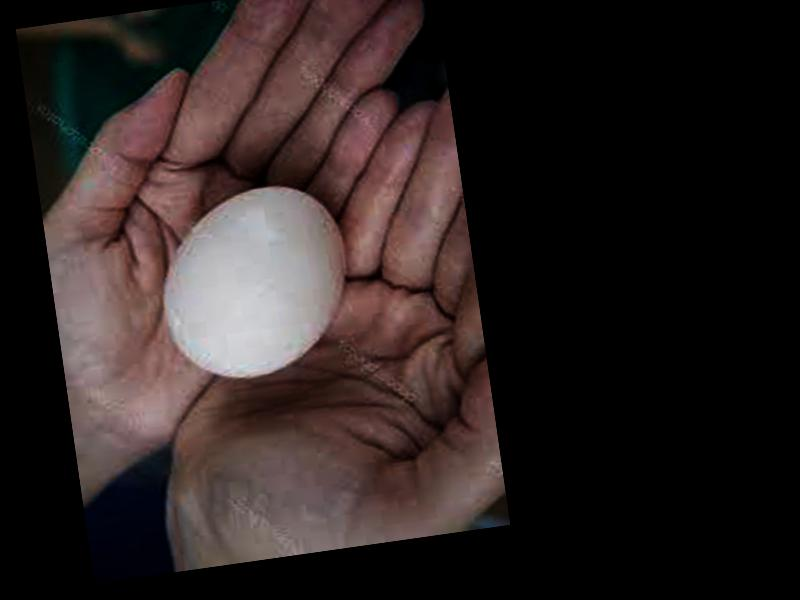Eggs: (154, 177, 355, 386)
